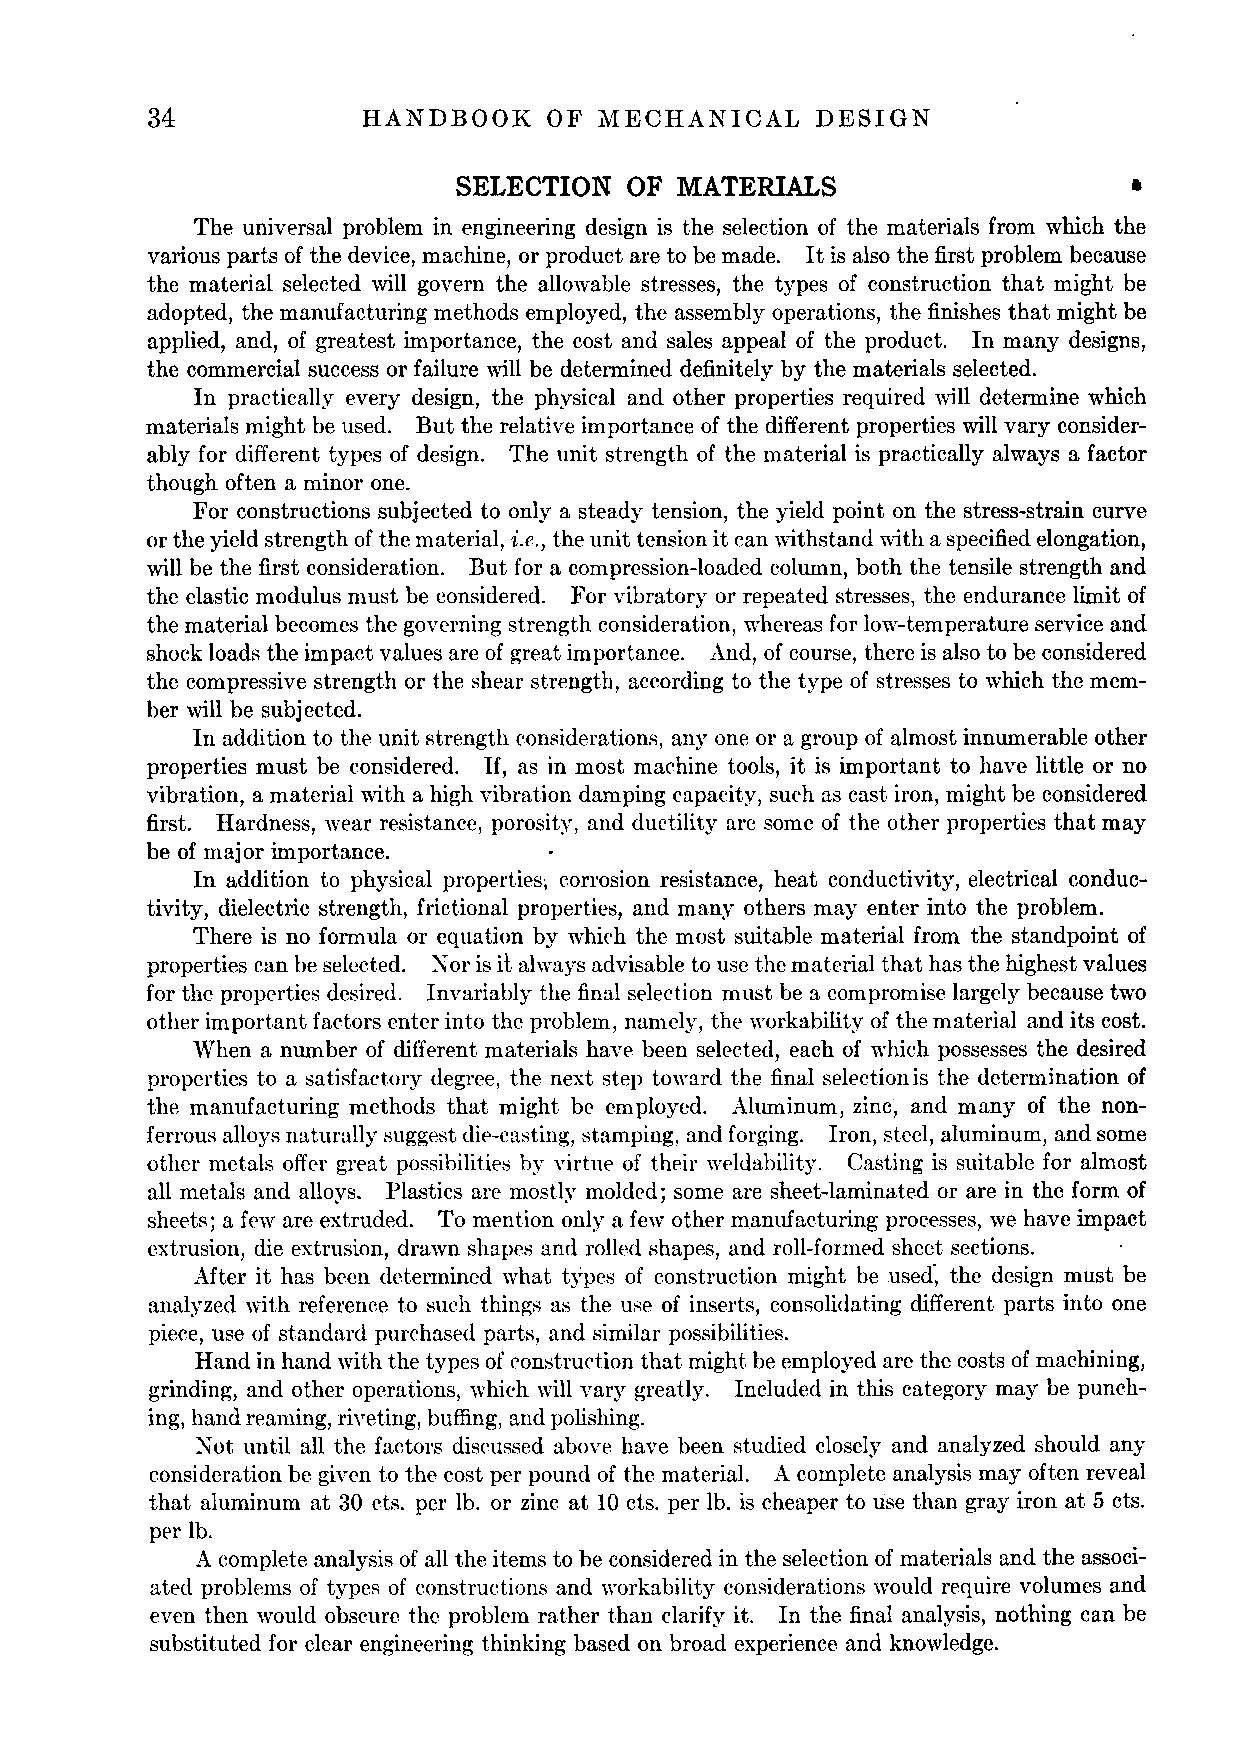chapter: (358, 107, 931, 130), (454, 173, 836, 199)
content: (144, 212, 1149, 1657)
content_pagenumber: (144, 103, 176, 130)
